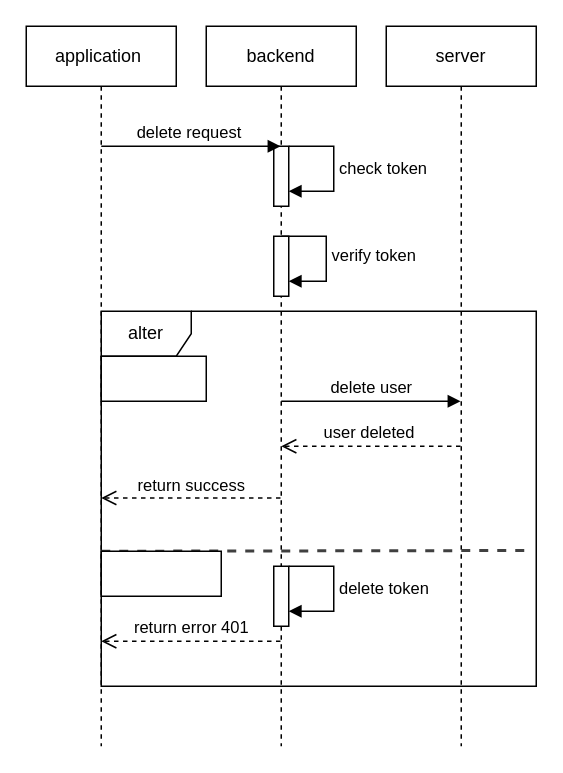
Some shapes in this 563 by 773 pixel diagram are drawn without their labels. The centre of each missing label's shape, as x and y in pixels:
"not valid token" goes at [160,573].
"valid token" goes at [153,378].
